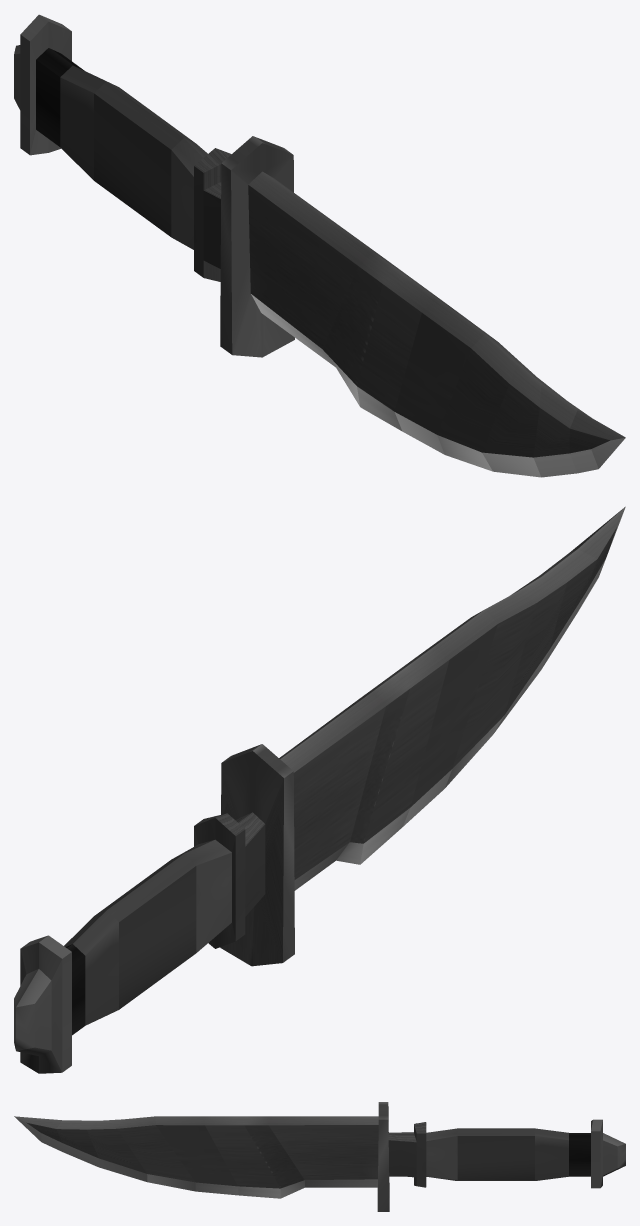
Rendered from knife-done.fbx.
3 renders of one model, top to bottom at view 1: azimuth 30°, elevation 25°; view 2: azimuth 150°, elevation 25°; view 3: azimuth 270°, elevation 25°, orthographic. The views are drawn at different scales.
Visible parts, largest first — view 1: Cube; view 2: Cube; view 3: Cube.
Part boxes in pixels (x1=…): Cube: x1=14, y1=14, x2=625, y2=477; Cube: x1=14, y1=506, x2=625, y2=1073; Cube: x1=14, y1=1102, x2=625, y2=1211.
Size of the model in its own units: 1.5 by 4.9 by 25.25.
